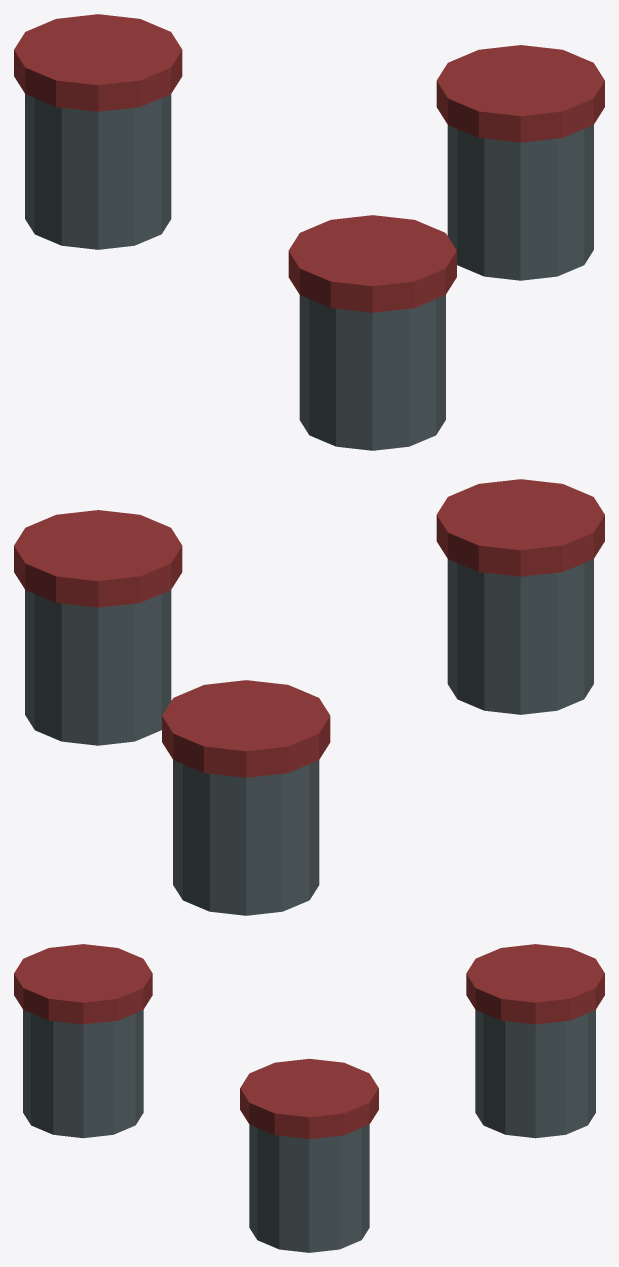
Rendered from PirateCove_SlalomBumpers_Standard.glb.
3 renders of one model, top to bottom at view 1: azimuth 30°, elevation 25°; view 2: azimuth 150°, elevation 25°; view 3: azimuth 270°, elevation 25°, orthographic. The views are drawn at different scales.
Visible parts, largest first — view 1: PirateCove_SlalomBumpers_Standard; view 2: PirateCove_SlalomBumpers_Standard; view 3: PirateCove_SlalomBumpers_Standard.
Part boxes in pixels (x1,y1,x2,y2): PirateCove_SlalomBumpers_Standard: (14,14,604,450); PirateCove_SlalomBumpers_Standard: (14,479,604,915); PirateCove_SlalomBumpers_Standard: (14,944,604,1252).
Bounding box in the file's own units: 1.36 × 0.51 × 1.96.
